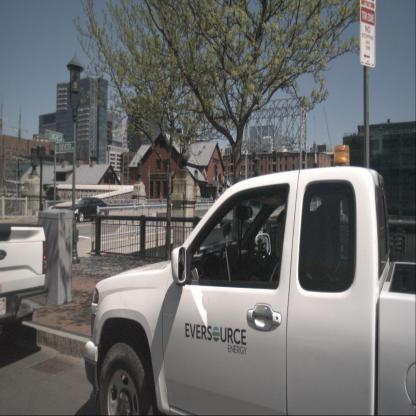human-pedestrian-adult: (159, 192, 163, 212), (210, 194, 213, 211)
vehicle-car: (67, 197, 109, 222)
vehicle-truck: (84, 164, 416, 416), (0, 216, 53, 370)
